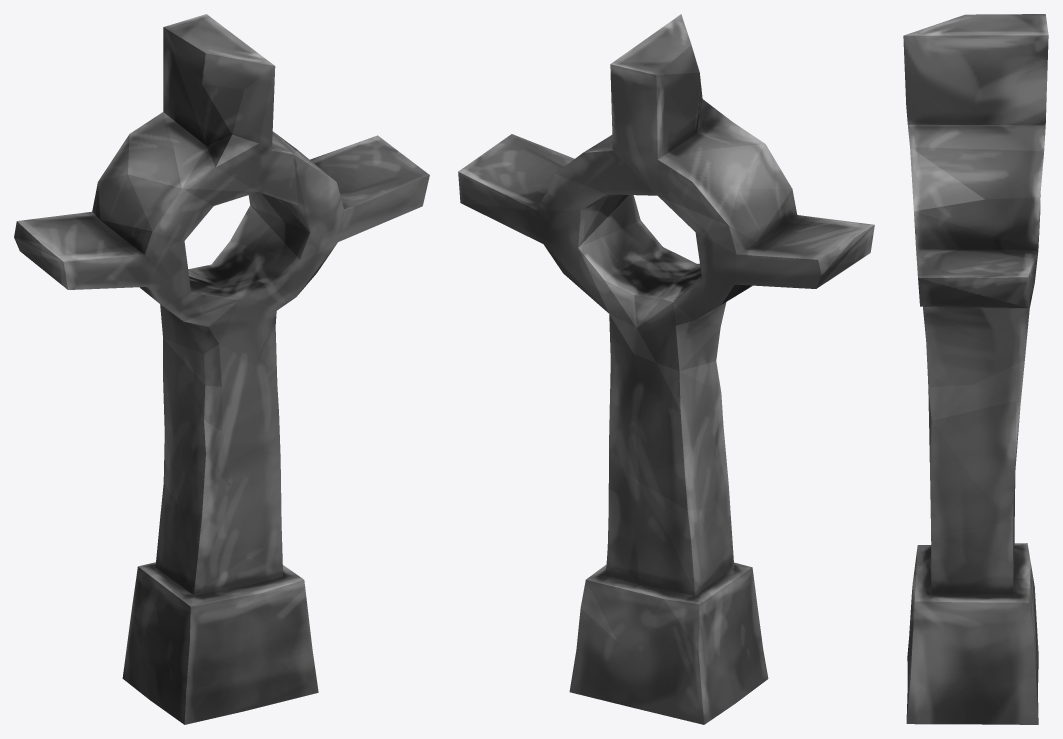
The model's file is gravestone02_a.fbx.
3 views of the same model, side by side, from view 1: azimuth 30°, elevation 25°; view 2: azimuth 150°, elevation 25°; view 3: azimuth 270°, elevation 25° (orthographic). The views are drawn at different scales.
Visible parts, largest first — view 1: Gravestone02_lp_A; view 2: Gravestone02_lp_A; view 3: Gravestone02_lp_A.
Boxes of the visible parts, x1,y1,x2,y2 form: Gravestone02_lp_A: [14, 14, 429, 724]; Gravestone02_lp_A: [458, 14, 874, 724]; Gravestone02_lp_A: [903, 14, 1048, 724].
Bounding box in the file's own units: 0.9224 × 0.3052 × 1.55.
